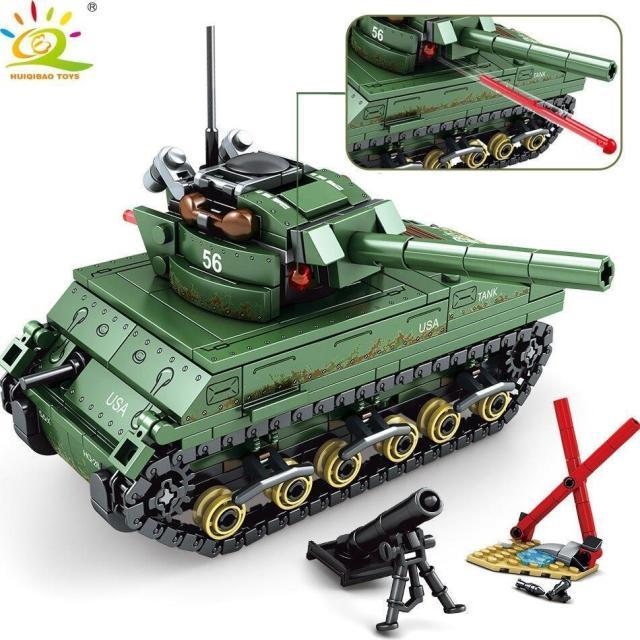MIL_MBT: (10, 114, 611, 433), (348, 17, 619, 169)
